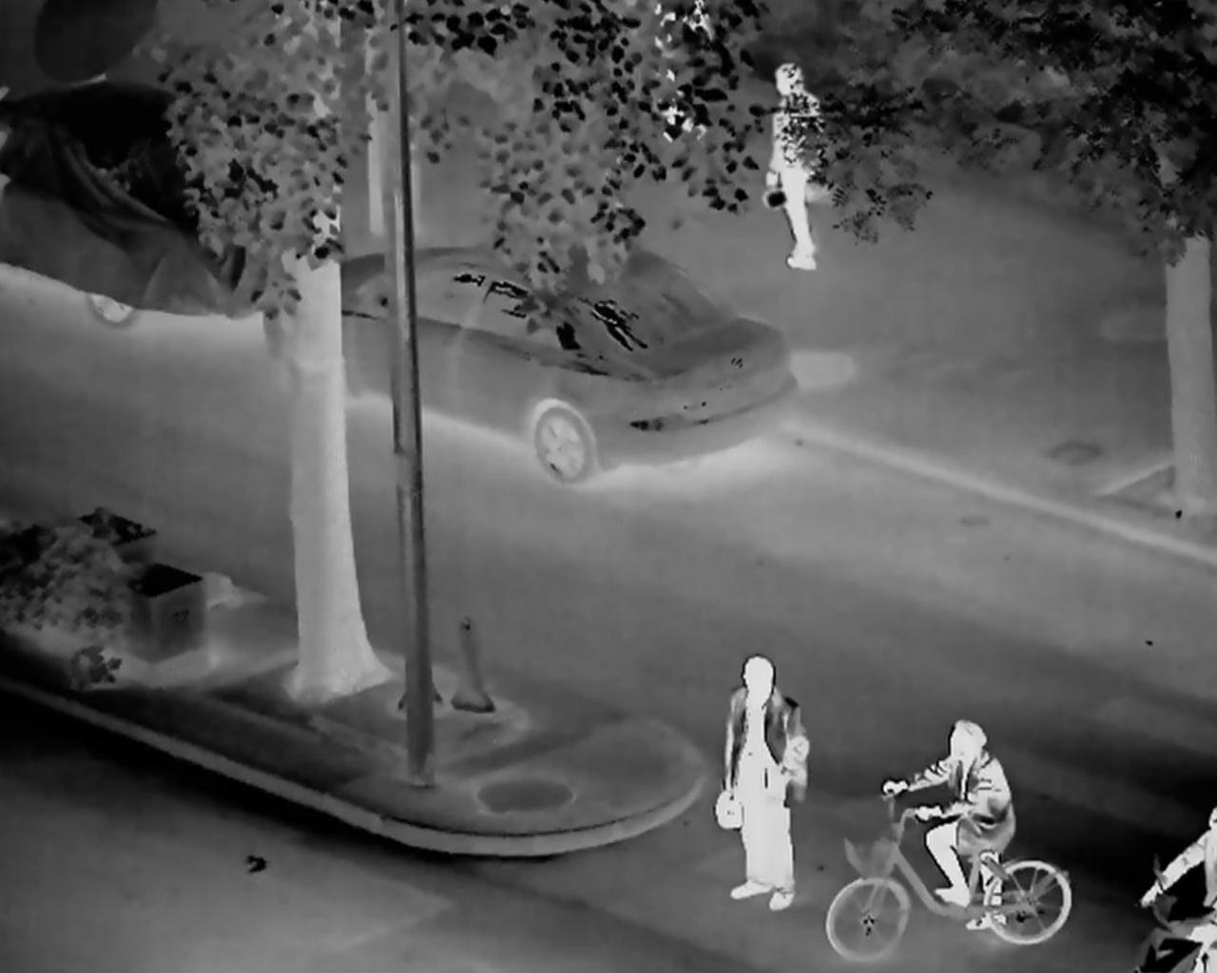person: (879, 720, 1014, 933), (715, 657, 812, 911), (764, 63, 825, 270), (1137, 803, 1217, 950)
